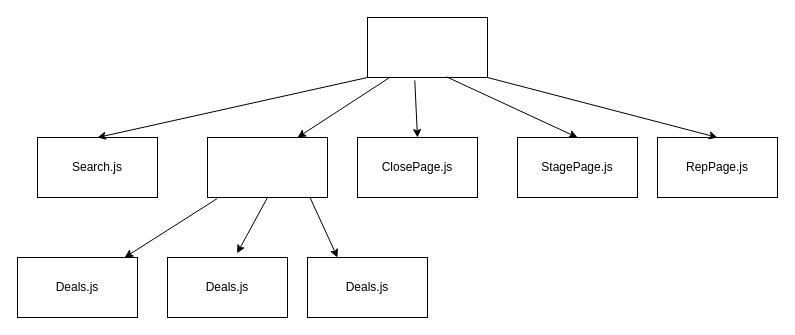
The diagram is 795 pixels wide and 335 high, and some of its shapes have lost their labels. The box of each missing label's shape, as (x1, y1, x2, y2) in pixels:
App.js: (366, 16, 488, 78)
Pipeline Container.js: (206, 136, 328, 198)
